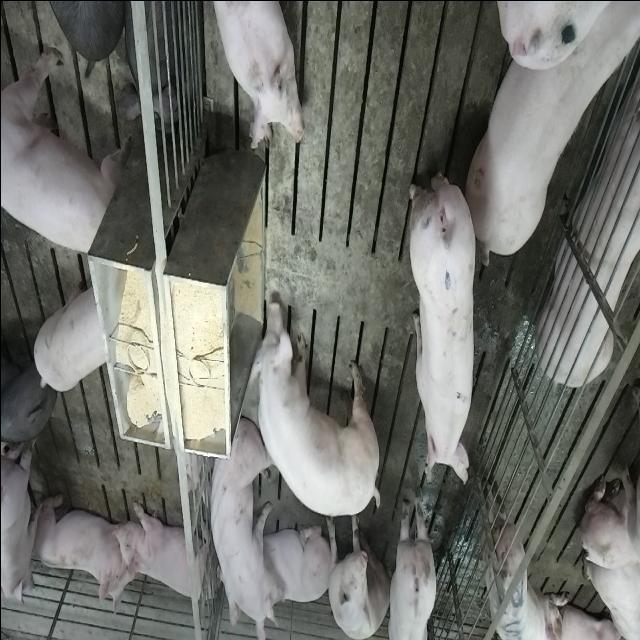Sitting: (201, 410, 274, 636), (325, 519, 389, 639)
Standing: (248, 296, 384, 522), (1, 40, 122, 257), (407, 161, 477, 485), (32, 274, 108, 394), (386, 488, 438, 638), (0, 438, 34, 612)
Sternal_lying: (538, 60, 640, 392), (207, 0, 305, 150), (28, 491, 128, 606), (116, 499, 215, 610), (242, 518, 330, 616)
